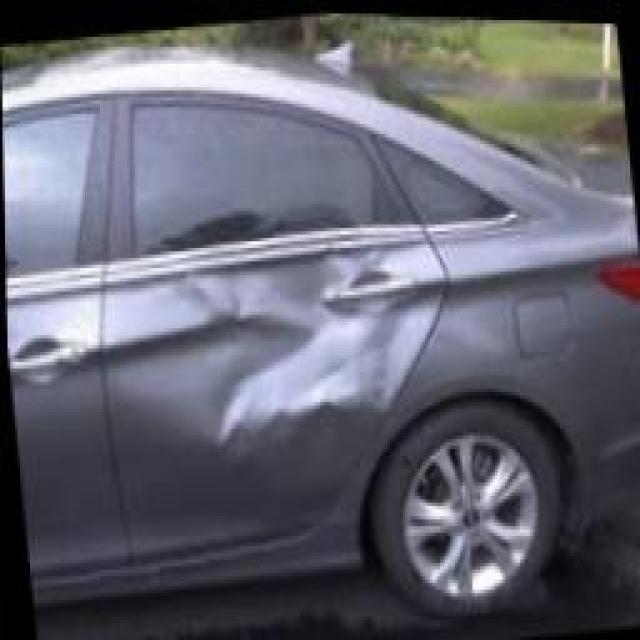rapairable: (180, 260, 443, 411)
